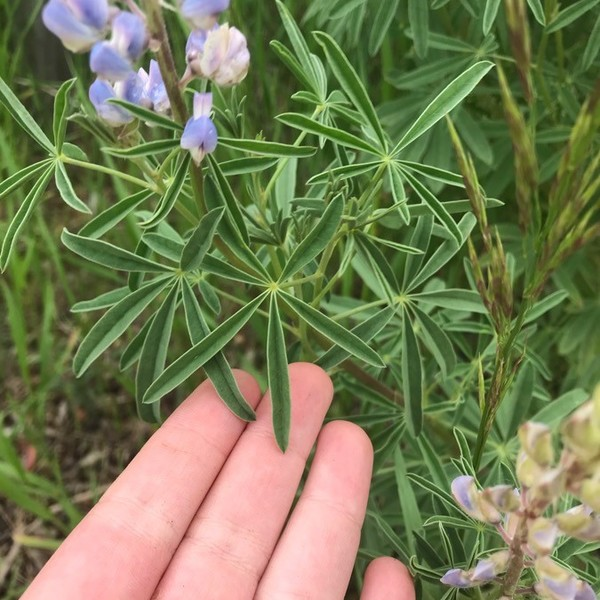obstacle: (37, 6, 507, 445)
